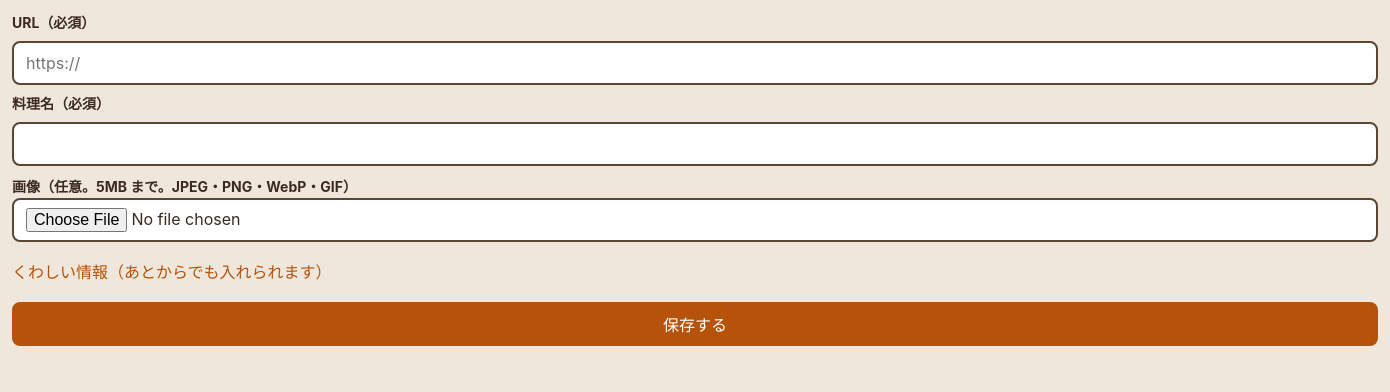
Test: 保存の画面の検証の表示（BR3.1〜BR3.5） › その他の失敗では、入力を残したままメッセージを出す
Type "https://example.com/x" into the field with test id "input-url" at (695, 63), box [12, 41, 1378, 85]
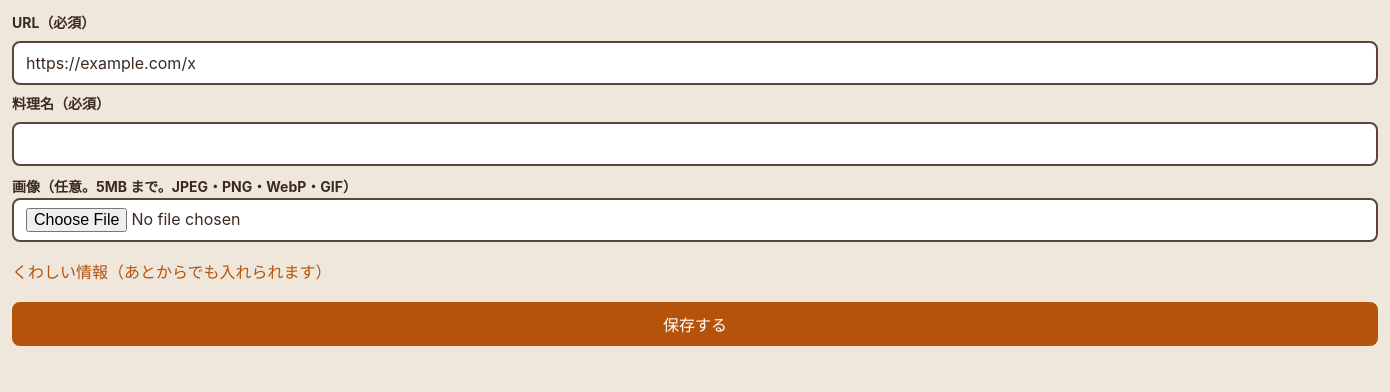
Type "料理" into the field with test id "input-name" at (695, 144), box [12, 122, 1378, 166]
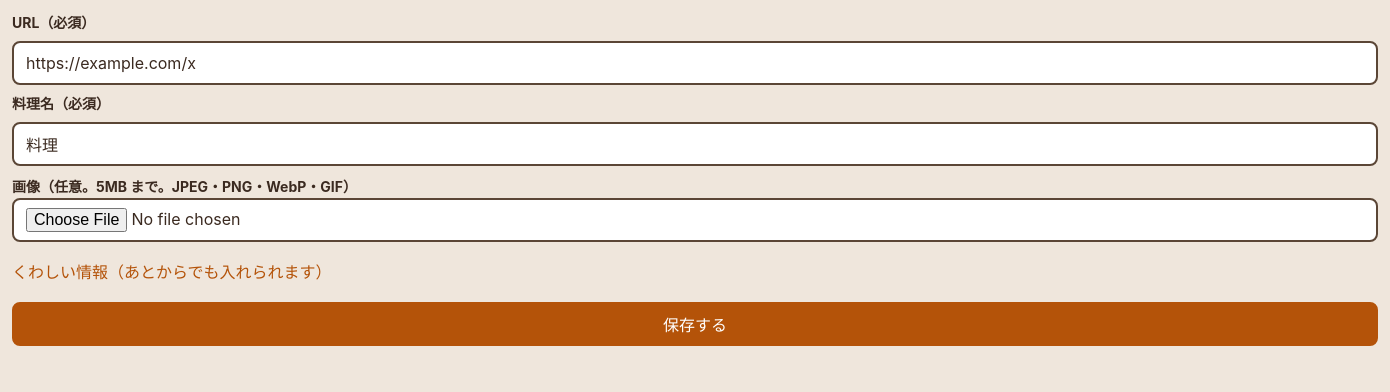
Click the button with test id "submit-button" at (695, 324), box [12, 302, 1378, 346]
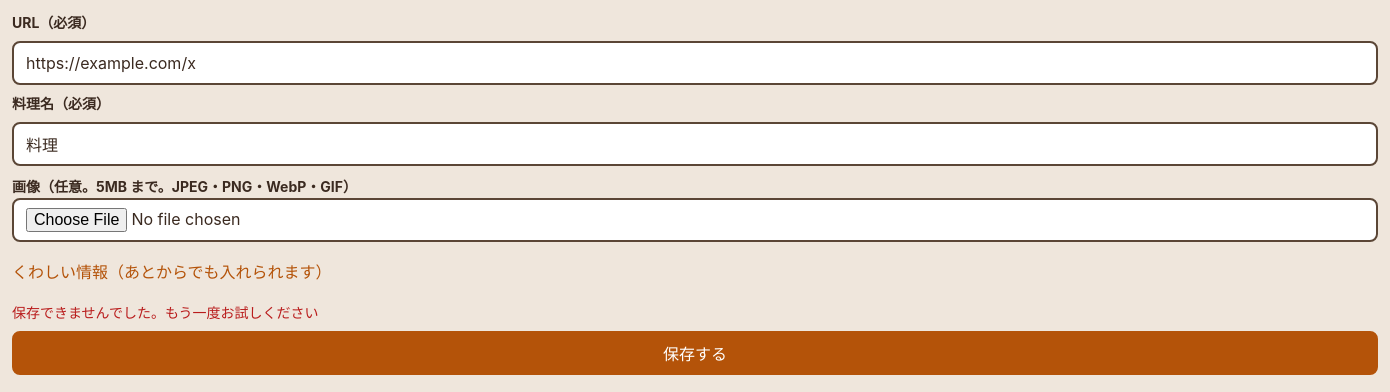
Expected: the message "保存できませんでした。もう一度お試しください" is shown, [12, 304, 318, 321]
